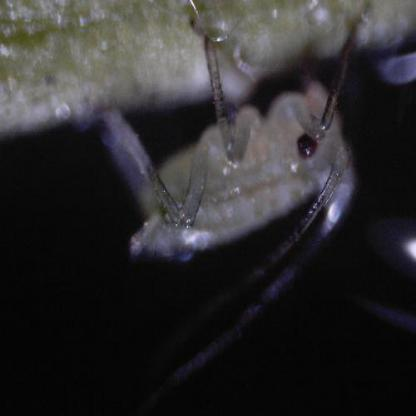aphid: (94, 26, 416, 272)
